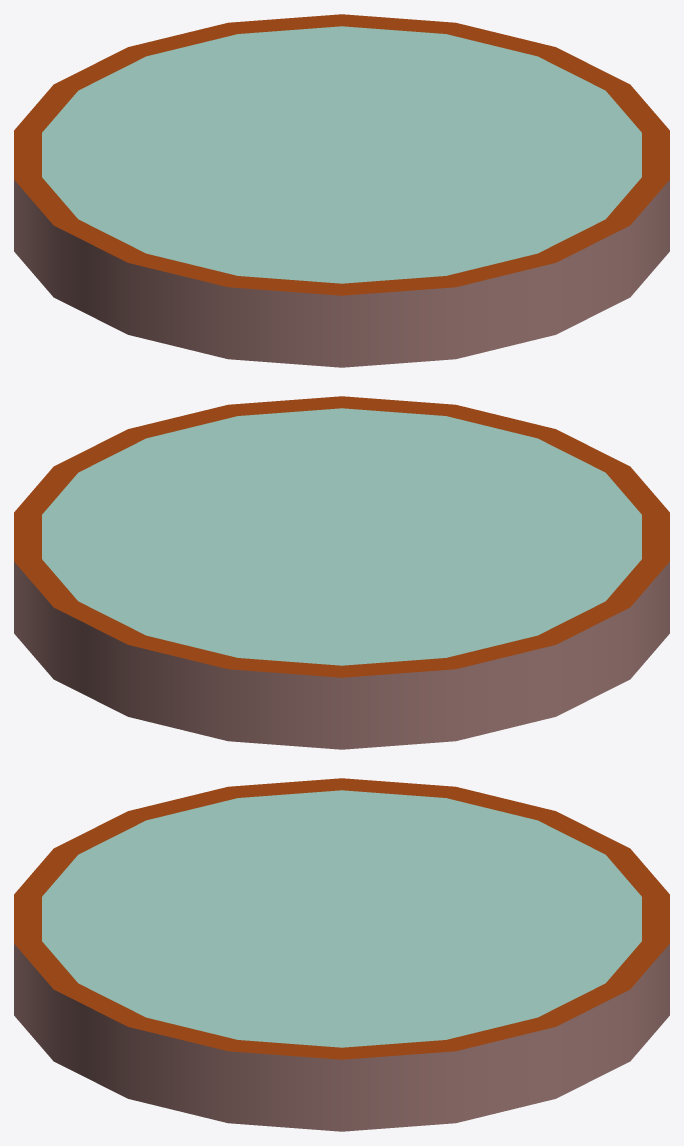
The model's file is Collecionable.fbx.
3 renders of one model, top to bottom at view 1: azimuth 30°, elevation 25°; view 2: azimuth 150°, elevation 25°; view 3: azimuth 270°, elevation 25°, orthographic.
Parts seen in each view (by area): view 1: Cylinder001; view 2: Cylinder001; view 3: Cylinder001.
Part boxes in pixels (x1,y1,x2,y2): Cylinder001: [14, 14, 669, 367]; Cylinder001: [14, 396, 669, 749]; Cylinder001: [14, 778, 669, 1131].
Bounding box in the file's own units: 27.29 × 3.25 × 26.88.
